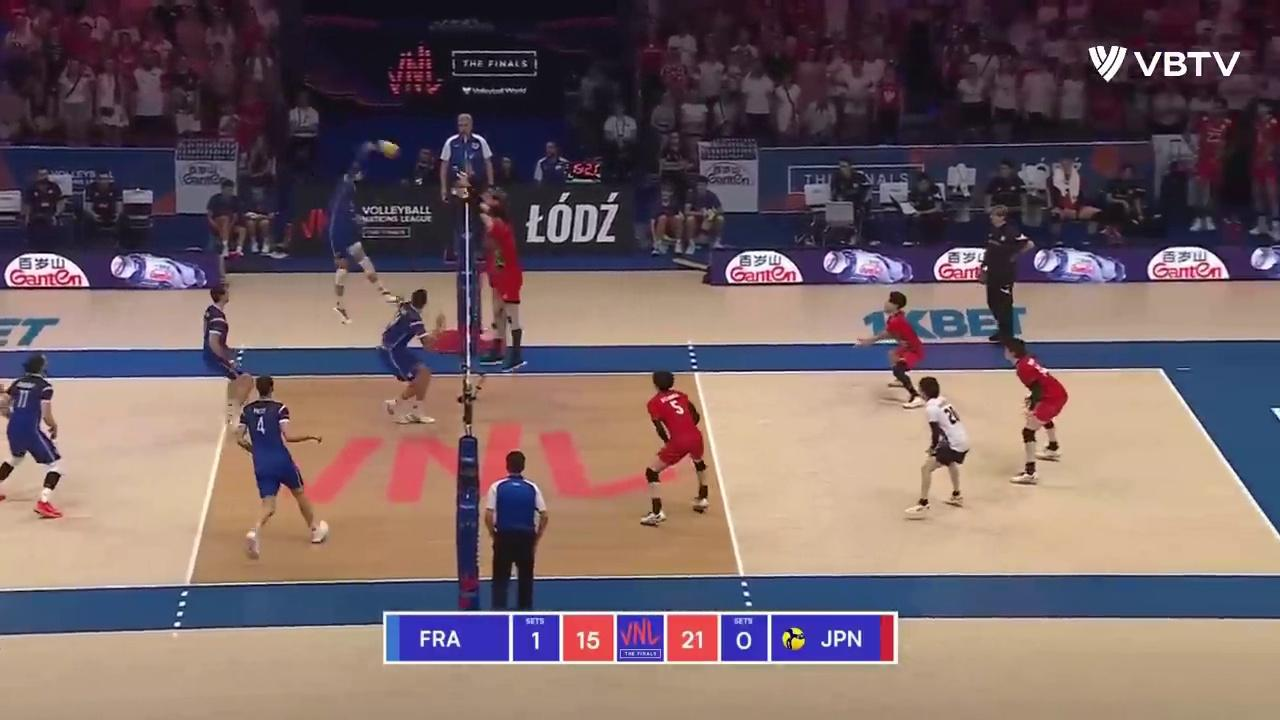ball: (379, 141, 402, 158)
